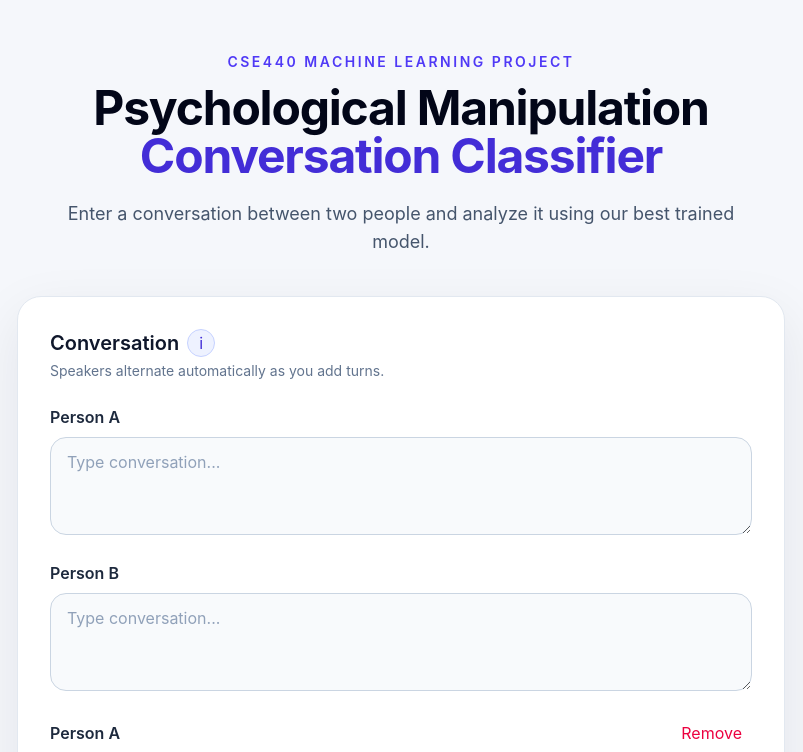
Scenario: ConversationClassifier › shows the API model-missing message without exposing technical details
Type "Hello" into the 1st text box with placeholder "Type conversation..." at point(401, 486), box [50, 437, 752, 535]
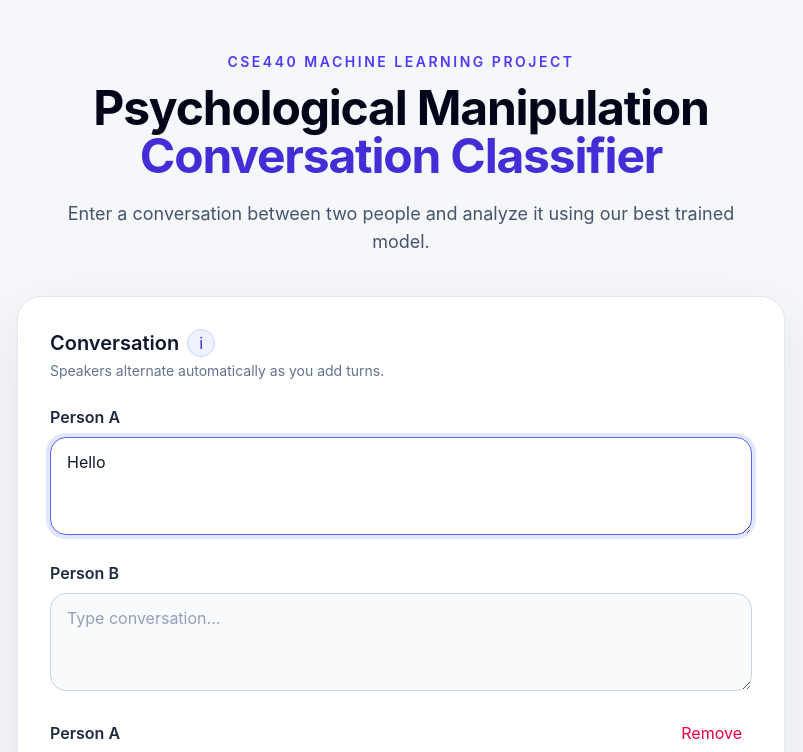
Type "Hi" into the text box with placeholder "Type conversation..." at point(401, 642), box [50, 593, 752, 691]
(page scrolled)
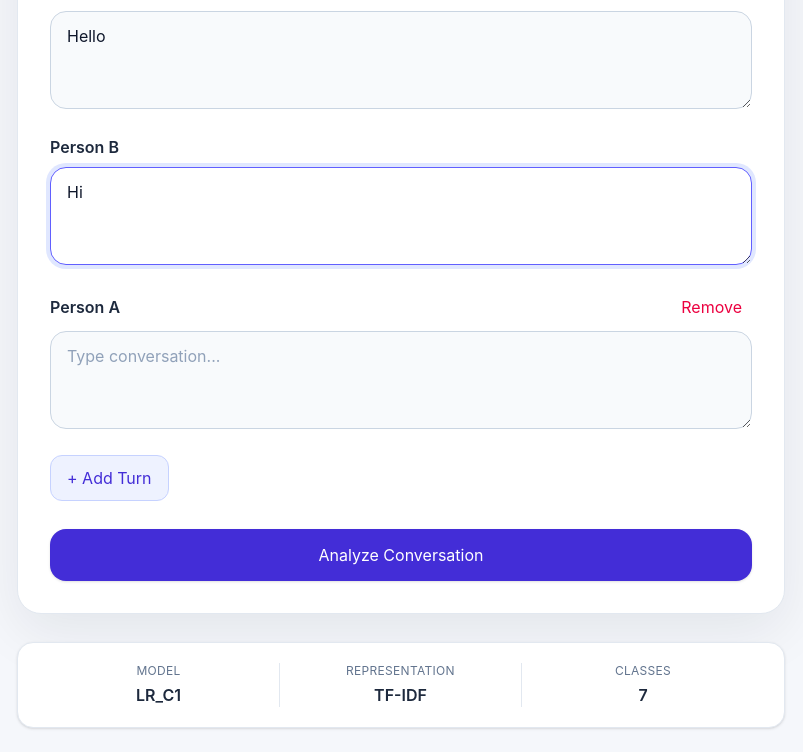
Type "How are you?" into the 2nd text box with placeholder "Type conversation..." at point(401, 380), box [50, 331, 752, 429]
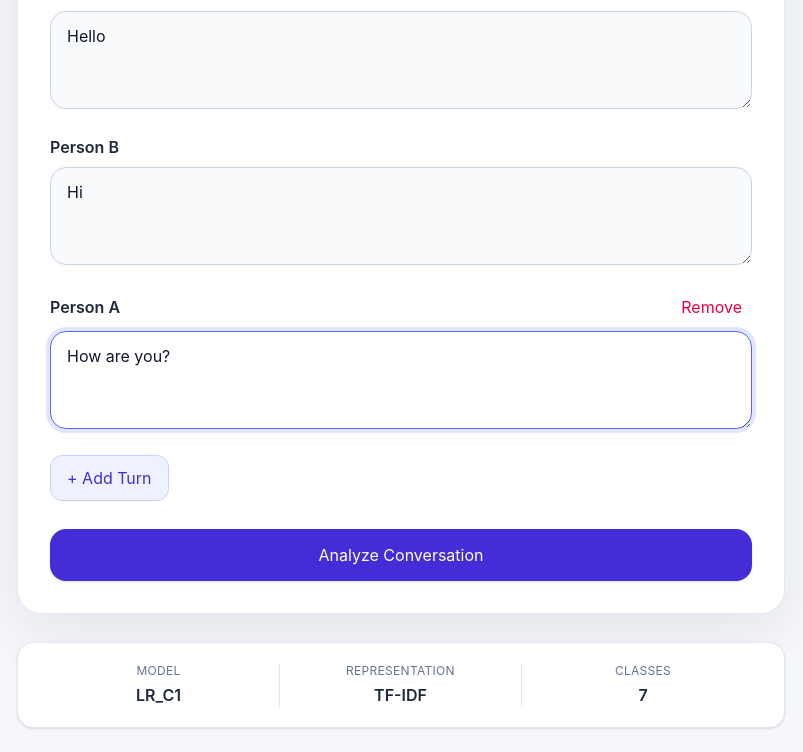
Click the button "Analyze Conversation" at point(401, 555), box [50, 529, 752, 581]
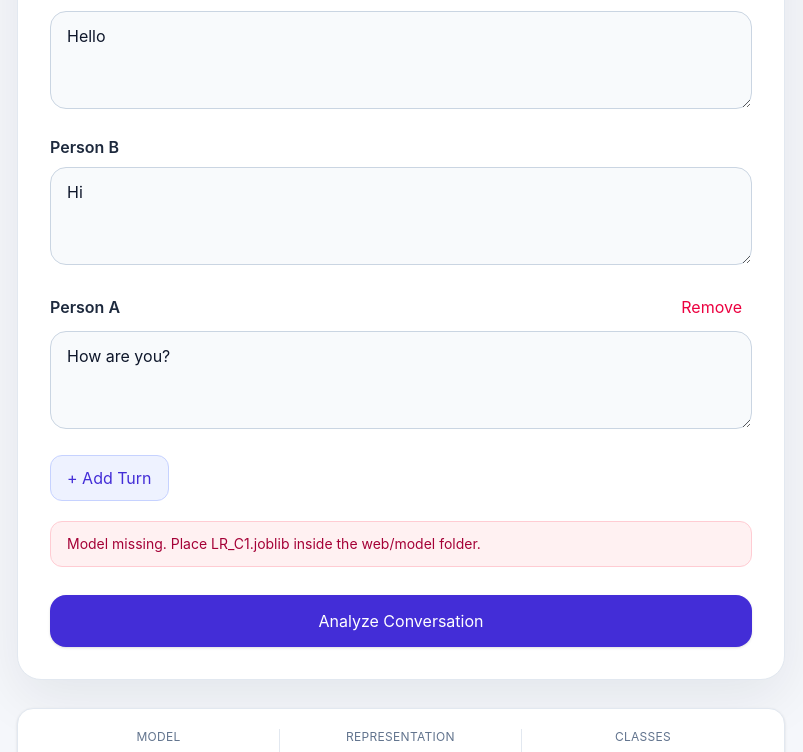
Check: the message reads "Model missing. Place LR_C1.joblib inside the web/model folder.", box [67, 535, 481, 552]
